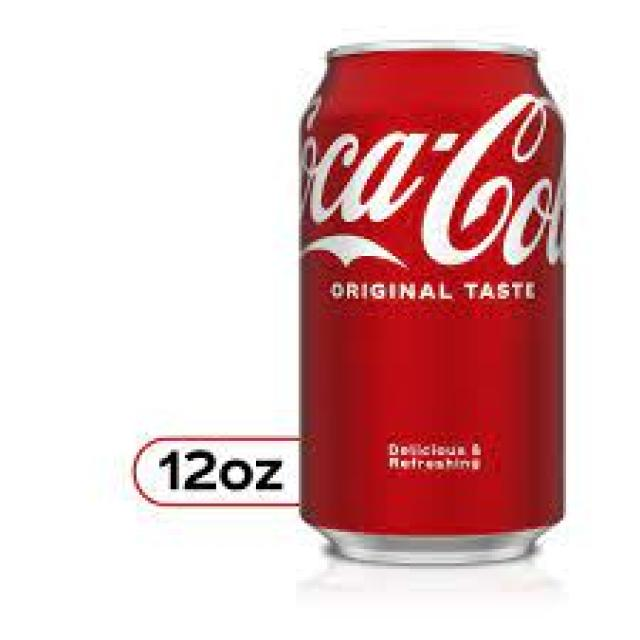Cans: (284, 31, 574, 566)
